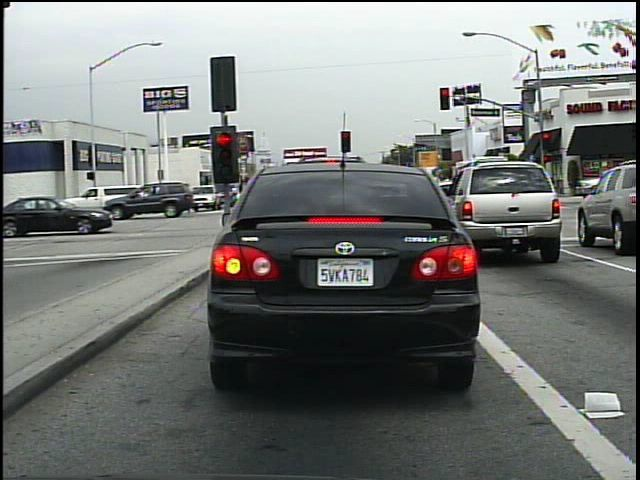person: (173, 177, 196, 216)
